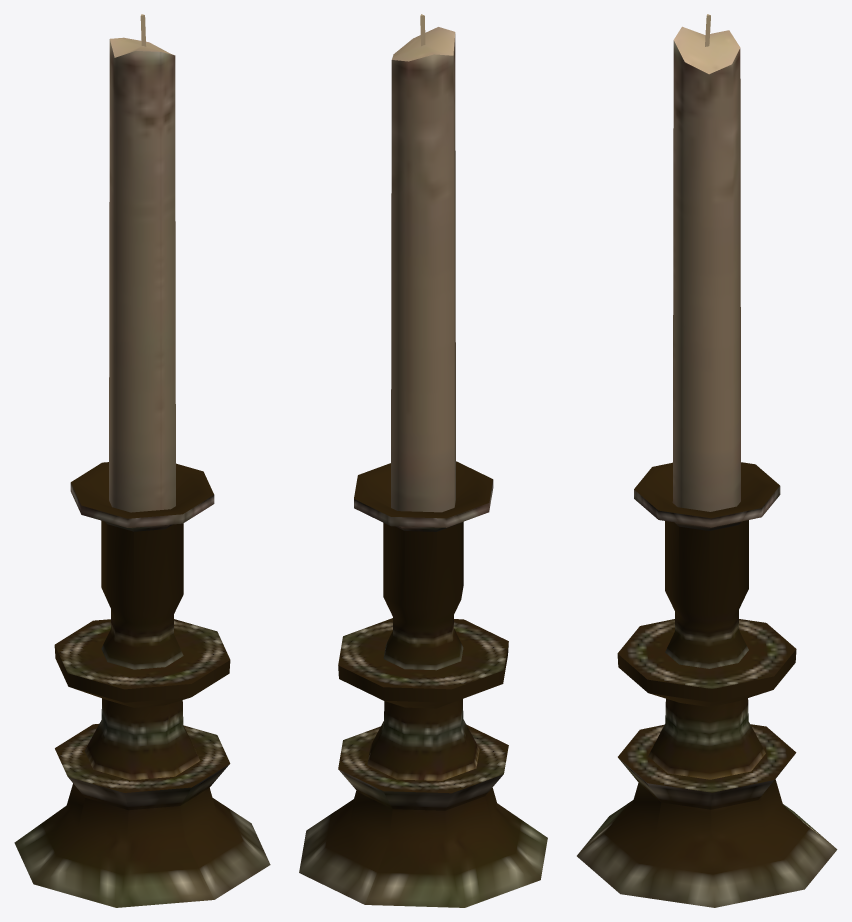
The model's file is o_mdl_env_propCandleStickC-transformed.glb.
The picture shows the model from 3 angles, left to right: view 1: azimuth 30°, elevation 25°; view 2: azimuth 150°, elevation 25°; view 3: azimuth 270°, elevation 25°; orthographic projection.
Visible parts, largest first — view 1: default; view 2: default; view 3: default.
Part boxes in pixels (x1,y1,x2,y2): default: (14,14,270,907); default: (299,14,547,907); default: (577,14,837,907).
Size of the model in its own units: 0.1851 by 0.656 by 0.1851.
1 material, 1 textured.
